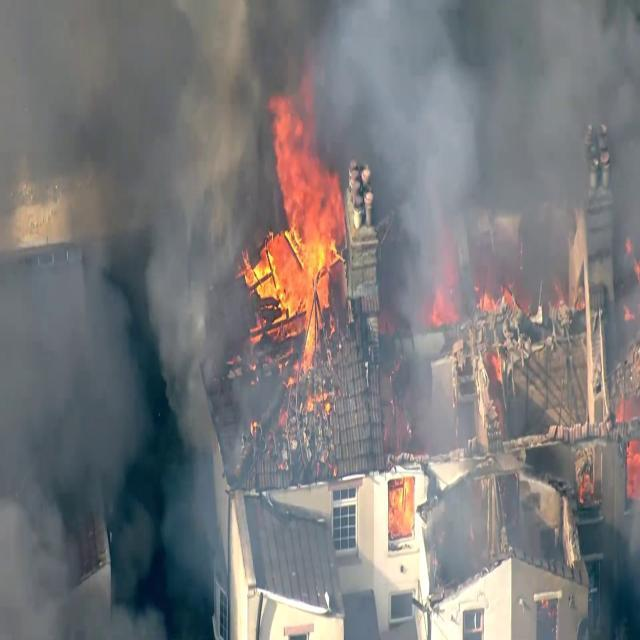Fire: (248, 95, 352, 343)
Smoke: (427, 0, 624, 233)
